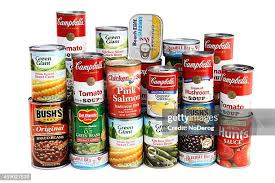can: (27, 6, 258, 172)
